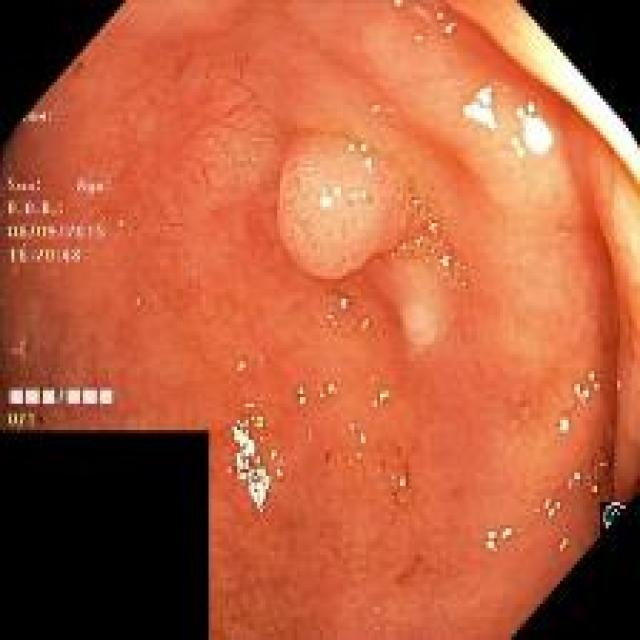Polyps: (279, 134, 409, 280)
